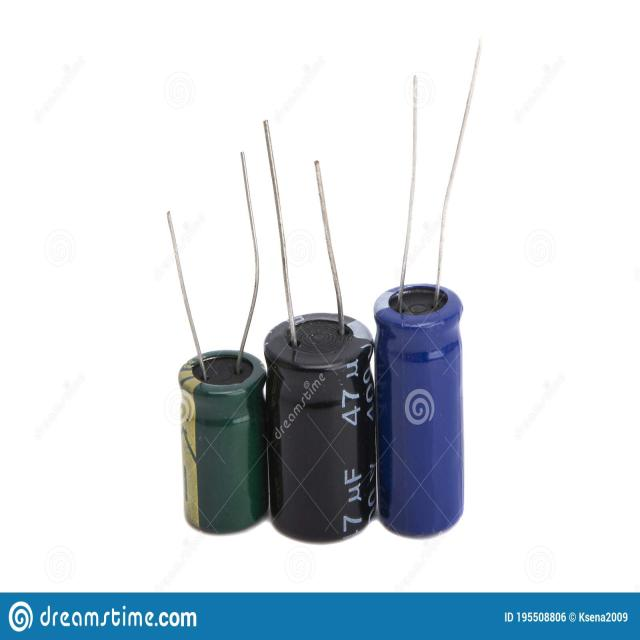Capacitor: (374, 41, 481, 536), (264, 122, 376, 541), (168, 170, 269, 533)
